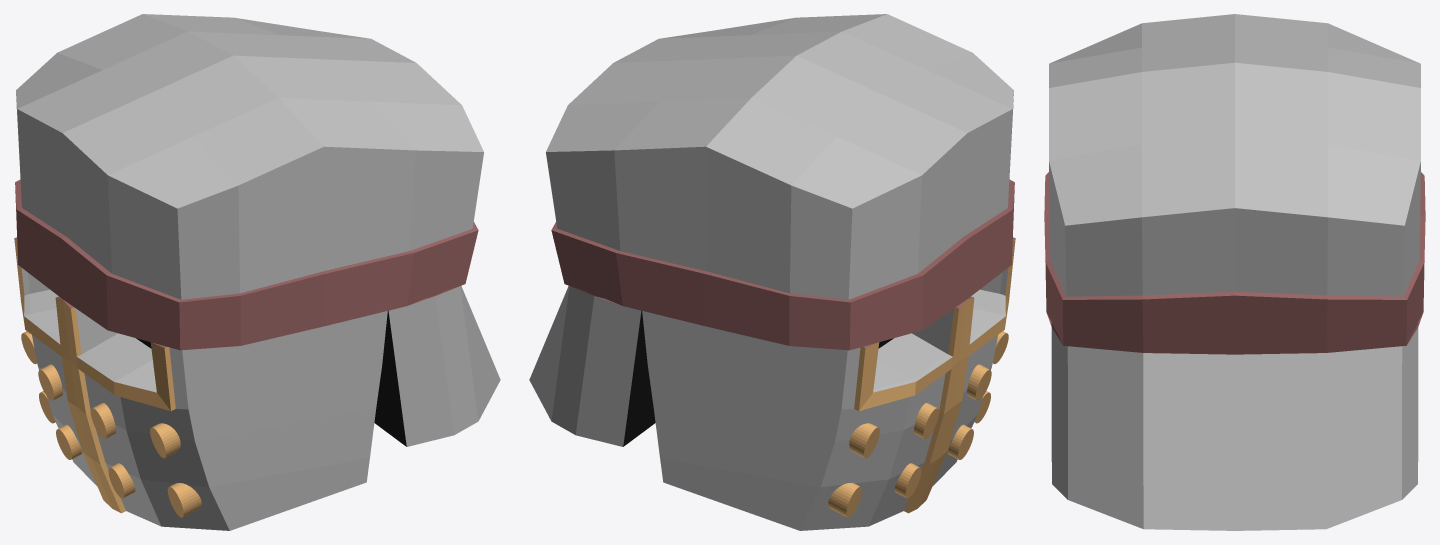
The model's file is casco3.fbx.
3 renders of one model, left to right at view 1: azimuth 30°, elevation 25°; view 2: azimuth 150°, elevation 25°; view 3: azimuth 270°, elevation 25°, orthographic. The views are drawn at different scales.
Visible parts, largest first — view 1: cascoNPC1; view 2: cascoNPC1; view 3: cascoNPC1.
Boxes of the visible parts, x1=… form: cascoNPC1: x1=14, y1=14, x2=500, y2=530; cascoNPC1: x1=529, y1=14, x2=1015, y2=530; cascoNPC1: x1=1044, y1=14, x2=1425, y2=530.
Size of the model in its own units: 99.65 by 102 by 81.3.
